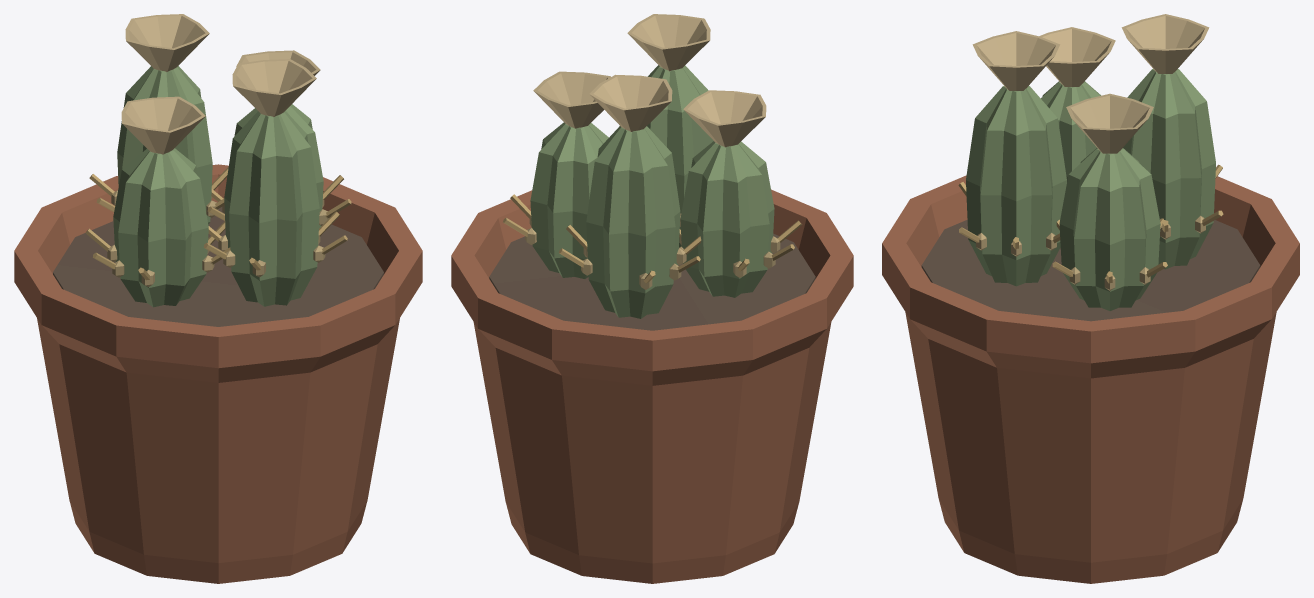
Rendered from new-chamaecereus.glb.
3 renders of one model, left to right at view 1: azimuth 30°, elevation 25°; view 2: azimuth 150°, elevation 25°; view 3: azimuth 270°, elevation 25°, orthographic. The views are drawn at different scales.
Visible parts, largest first — view 1: new-chamaecereus/review-terra-vessel, new-chamaecereus/ribbed-stem-046, new-chamaecereus/review-rooted-soil, new-chamaecereus/ribbed-stem-031, new-chamaecereus/ribbed-stem-016, new-chamaecereus/hollow-corolla-029, new-chamaecereus/hollow-corolla-059, new-chamaecereus/hollow-corolla-044, new-chamaecereus/ribbed-stem-001, new-chamaecereus/hollow-corolla-014; view 2: new-chamaecereus/review-terra-vessel, new-chamaecereus/ribbed-stem-016, new-chamaecereus/review-rooted-soil, new-chamaecereus/ribbed-stem-031, new-chamaecereus/ribbed-stem-001, new-chamaecereus/ribbed-stem-046, new-chamaecereus/hollow-corolla-029, new-chamaecereus/hollow-corolla-044, new-chamaecereus/hollow-corolla-059, new-chamaecereus/hollow-corolla-014; view 3: new-chamaecereus/review-terra-vessel, new-chamaecereus/ribbed-stem-046, new-chamaecereus/review-rooted-soil, new-chamaecereus/ribbed-stem-001, new-chamaecereus/ribbed-stem-016, new-chamaecereus/hollow-corolla-014, new-chamaecereus/hollow-corolla-029, new-chamaecereus/hollow-corolla-059, new-chamaecereus/hollow-corolla-044, new-chamaecereus/ribbed-stem-031.
Boxes of the visible parts, x1,y1,x2,y2 form: new-chamaecereus/review-terra-vessel: (14,164,422,583); new-chamaecereus/ribbed-stem-046: (224,111,319,306); new-chamaecereus/review-rooted-soil: (53,207,383,326); new-chamaecereus/ribbed-stem-031: (113,148,208,307); new-chamaecereus/ribbed-stem-016: (117,66,212,224); new-chamaecereus/hollow-corolla-029: (125,14,209,71); new-chamaecereus/hollow-corolla-059: (232,59,316,116); new-chamaecereus/hollow-corolla-044: (121,96,205,154); new-chamaecereus/ribbed-stem-001: (234,104,323,228); new-chamaecereus/hollow-corolla-014: (236,50,320,75); new-chamaecereus/review-terra-vessel: (451,189,853,583); new-chamaecereus/ribbed-stem-016: (586,126,680,318); new-chamaecereus/review-rooted-soil: (489,233,815,330); new-chamaecereus/ribbed-stem-031: (680,141,774,297); new-chamaecereus/ribbed-stem-001: (530,122,608,278); new-chamaecereus/ribbed-stem-046: (647,65,713,247); new-chamaecereus/hollow-corolla-029: (589,74,672,131); new-chamaecereus/hollow-corolla-044: (683,90,766,147); new-chamaecereus/hollow-corolla-059: (627,14,710,71); new-chamaecereus/hollow-corolla-014: (533,71,610,128); new-chamaecereus/review-terra-vessel: (882,175,1299,583); new-chamaecereus/ribbed-stem-046: (966,86,1066,286); new-chamaecereus/review-rooted-soil: (921,219,1260,321); new-chamaecereus/ribbed-stem-001: (1059,148,1160,310); new-chamaecereus/ribbed-stem-016: (1123,69,1215,269); new-chamaecereus/hollow-corolla-014: (1066,93,1153,153); new-chamaecereus/hollow-corolla-029: (1121,14,1209,73); new-chamaecereus/hollow-corolla-059: (972,31,1060,90); new-chamaecereus/hollow-corolla-044: (1039,27,1115,86); new-chamaecereus/ribbed-stem-031: (1041,81,1100,181).
Bounding box in the file's own units: 0.19 × 0.241 × 0.19.
7 materials, 7 textured.
